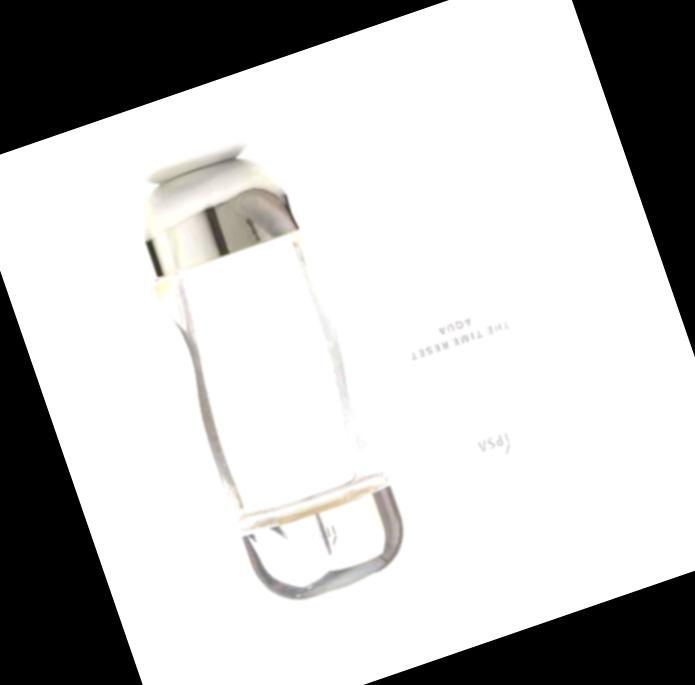cosmetic: (114, 140, 416, 616)
